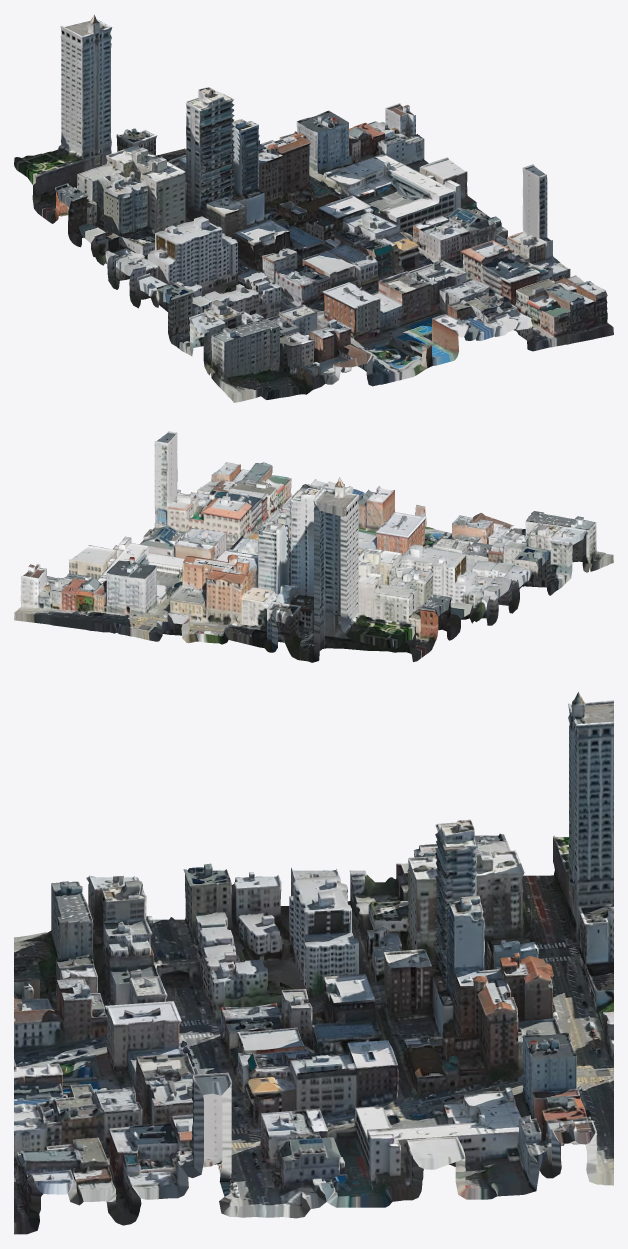
File: z17-20968-50653-h0-yup-uvflip-v3-world.glb
3 renders of one model, top to bottom at view 1: azimuth 30°, elevation 25°; view 2: azimuth 150°, elevation 25°; view 3: azimuth 270°, elevation 25°, orthographic. The views are drawn at different scales.
Size of the model in its own units: 242 by 149 by 243.
Materials: 1 (1 with a texture image).
